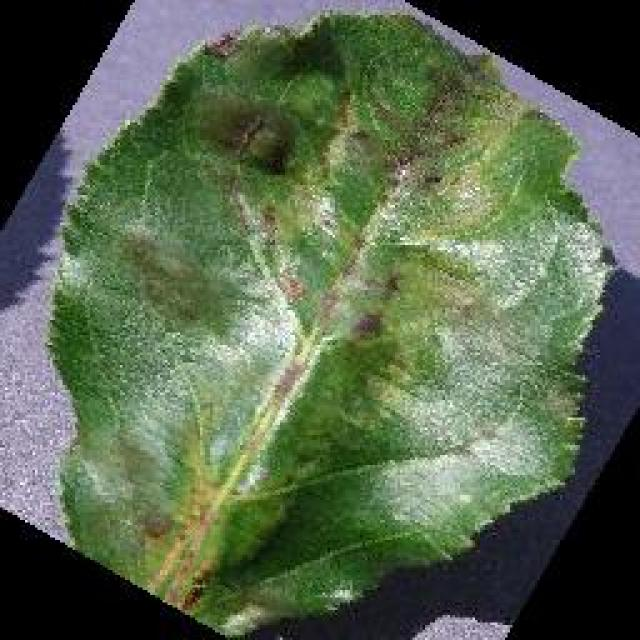apple scab disease: (42, 8, 612, 638)
